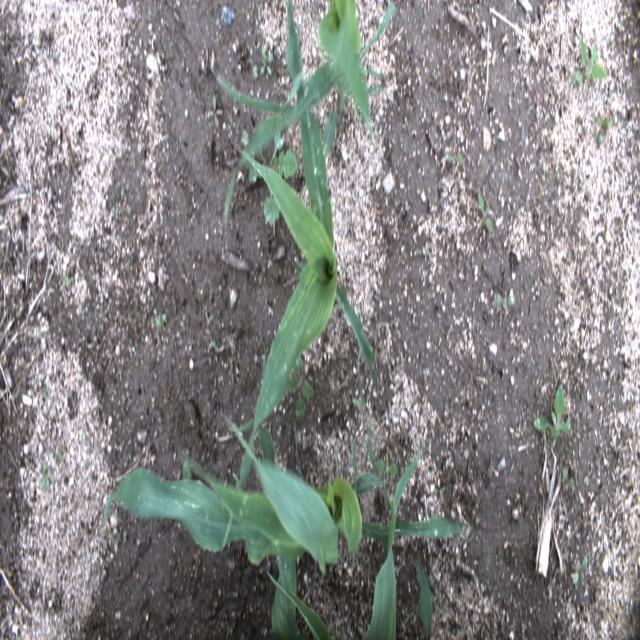crop: (104, 422, 468, 636), (235, 1, 378, 426), (215, 0, 395, 215), (361, 450, 422, 639), (266, 572, 334, 639), (271, 546, 300, 638)
weed: (262, 147, 298, 228), (534, 380, 572, 438), (571, 40, 606, 86), (290, 362, 315, 416), (350, 365, 370, 410), (478, 188, 495, 238), (206, 97, 226, 138), (35, 455, 56, 490), (570, 551, 587, 593), (595, 114, 616, 147), (488, 288, 515, 313), (258, 40, 274, 72), (564, 462, 581, 490), (442, 149, 466, 168), (376, 458, 398, 478), (58, 263, 74, 289), (156, 308, 170, 328)
